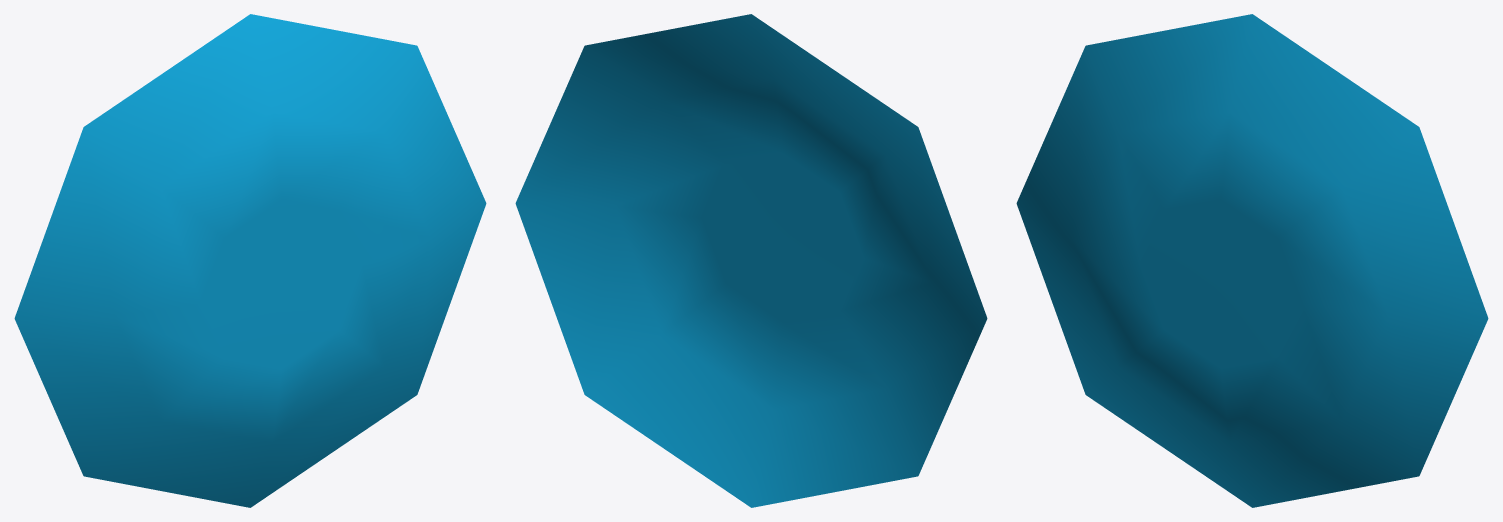
The model's file is WaterGun_Splash.fbx.
3 renders of one model, left to right at view 1: azimuth 30°, elevation 25°; view 2: azimuth 150°, elevation 25°; view 3: azimuth 330°, elevation 25°, orthographic.
Visible parts, largest first — view 1: WaterGun_Splash; view 2: WaterGun_Splash; view 3: WaterGun_Splash.
Part boxes in pixels (box(x1,y1,x2,y2)): WaterGun_Splash: box(14, 14, 486, 507); WaterGun_Splash: box(515, 14, 987, 507); WaterGun_Splash: box(1016, 14, 1488, 507).
Size of the model in its own units: 33.7 by 33.7 by 3.88.
